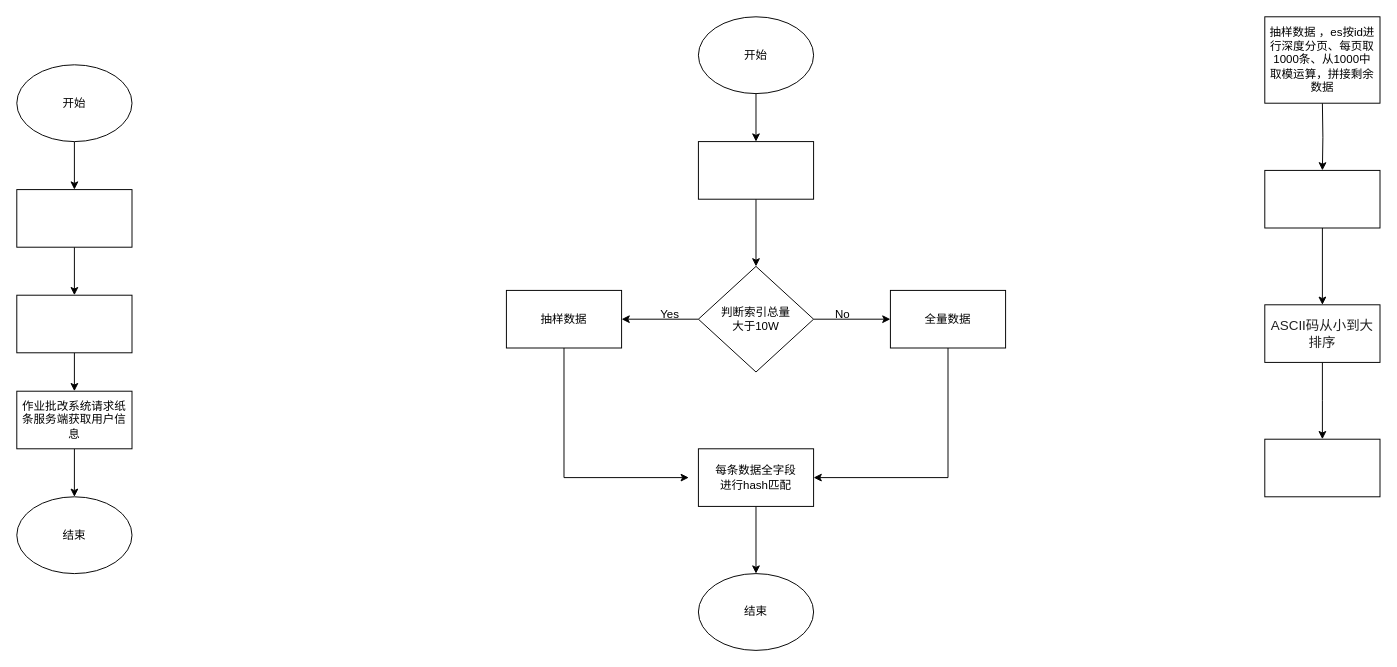
Image size: 1397x667. Some labels were removed from this diagram. Each missing label, with the centre of its shape:
"商城发送MQ到作业批改系统" goes at point 74,323.
"对排序后的数据进行hash计算和匹配" goes at point 1322,467.
"每行数据对字段进行排序" goes at point 1322,198.
"用户在商城 购买课程" goes at point 74,218.
"连接腾讯云、阿里云 两个es数据源" goes at point 755,170.
